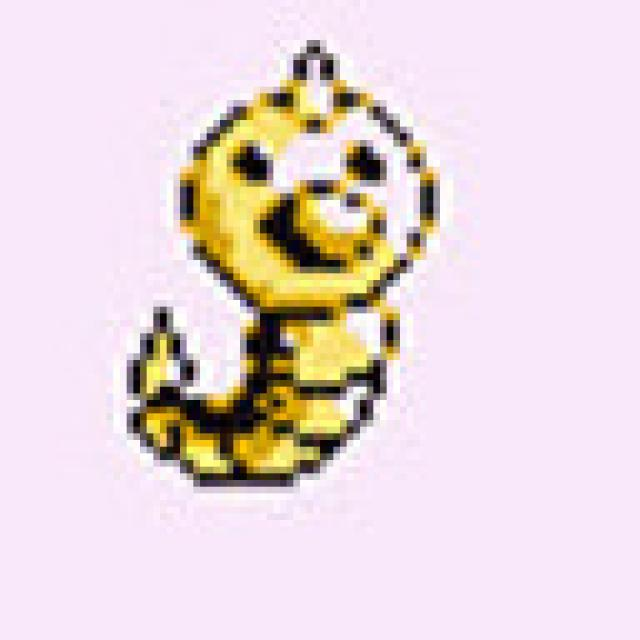Weedle: (117, 36, 444, 490)
